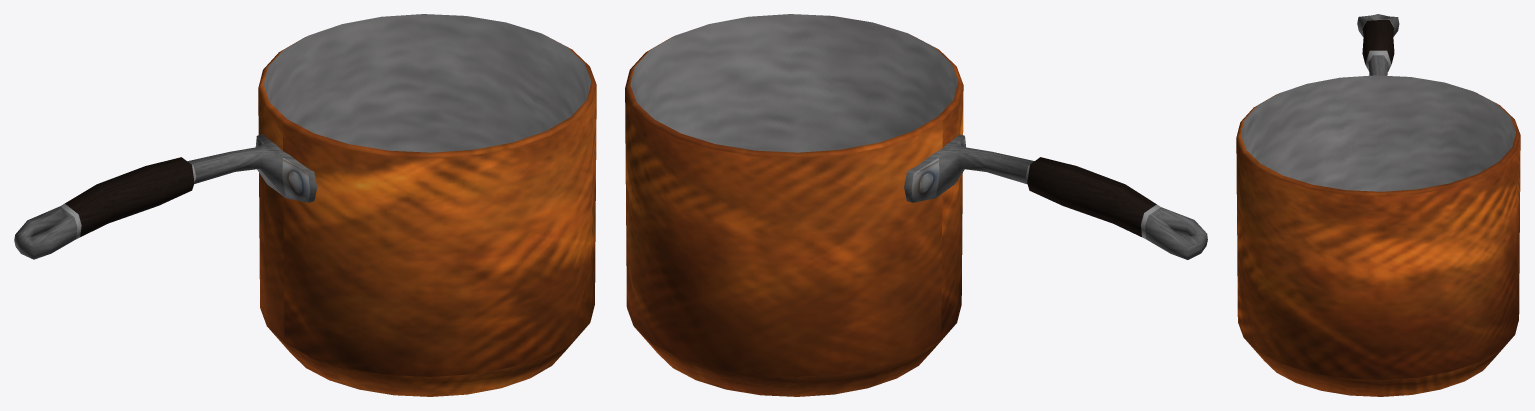
Rendered from SaucePan_Large.fbx.
The picture shows the model from 3 angles, left to right: view 1: azimuth 30°, elevation 25°; view 2: azimuth 150°, elevation 25°; view 3: azimuth 270°, elevation 25°; orthographic projection. The views are drawn at different scales.
Visible parts, largest first — view 1: SaucePanLarge_LOD0; view 2: SaucePanLarge_LOD0; view 3: SaucePanLarge_LOD0.
Boxes of the visible parts, box(x1,y1,x2,y2) form: SaucePanLarge_LOD0: box(14, 14, 596, 396); SaucePanLarge_LOD0: box(625, 14, 1207, 396); SaucePanLarge_LOD0: box(1236, 14, 1520, 396).
Size of what is drawn, in the model's own units: 156 by 68.2 by 82.48.
